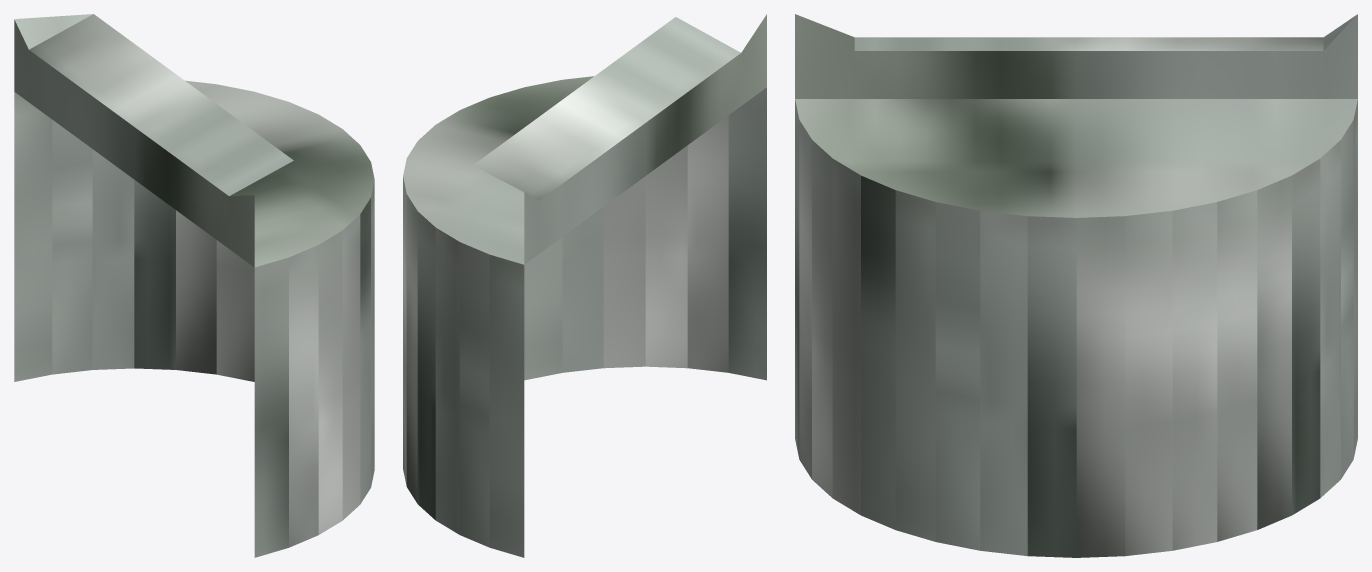
The model's file is original-9.obj.
3 renders of one model, left to right at view 1: azimuth 30°, elevation 25°; view 2: azimuth 150°, elevation 25°; view 3: azimuth 270°, elevation 25°, orthographic. The views are drawn at different scales.
Visible parts, largest first — view 1: #ID89; view 2: #ID89; view 3: #ID89.
Part boxes in pixels (x1=…): #ID89: x1=14, y1=14, x2=374, y2=557; #ID89: x1=403, y1=14, x2=766, y2=557; #ID89: x1=795, y1=14, x2=1357, y2=557.
Size of the model in its own units: 0.0688 by 0.1147 by 0.1376.
